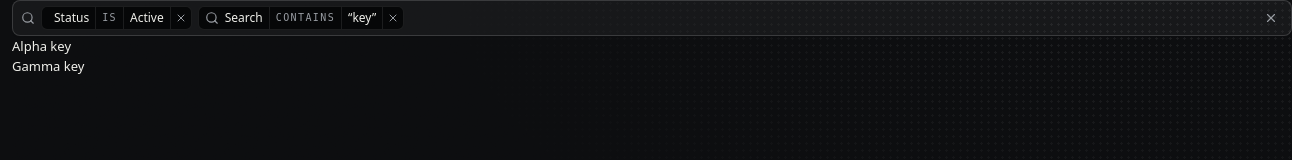
Test case: FilterBar › clears every filter from the trailing button
Click the button named "Clear all filters": {"x": 1271, "y": 18} [1259,6,1283,30]
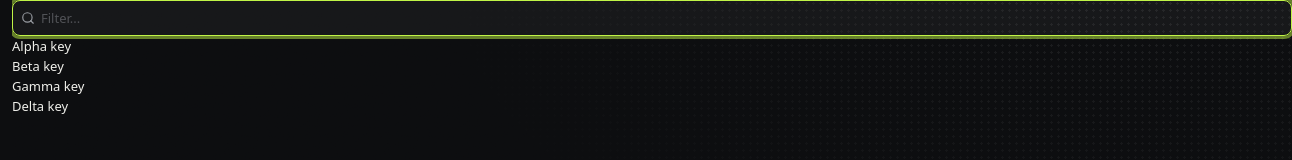
Now the number of list items is 4, box [12,37,71,55]; [12,57,64,75]; [12,77,84,95]; [12,97,68,115]
